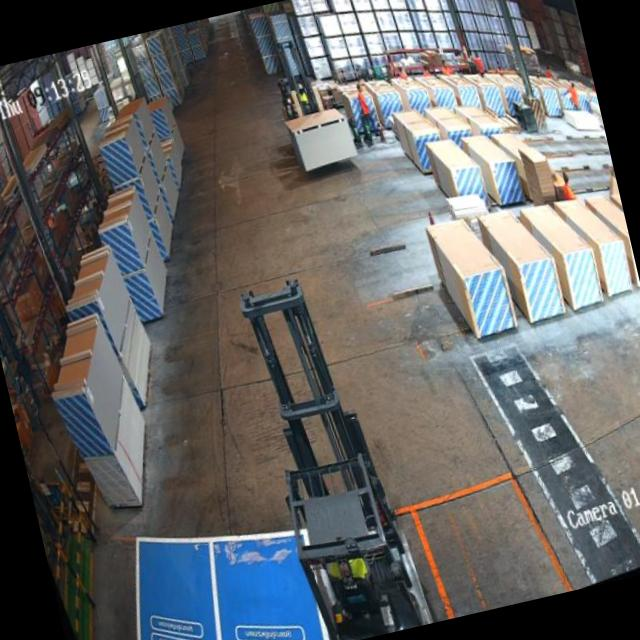forklift: (195, 245, 444, 640), (266, 54, 328, 125)
person: (352, 78, 383, 141), (557, 168, 576, 201), (471, 48, 486, 76)
